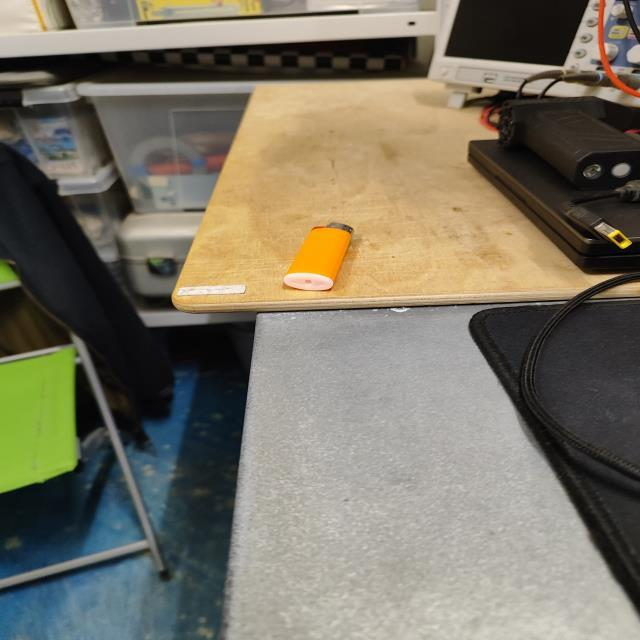lighter: (283, 223, 351, 291)
